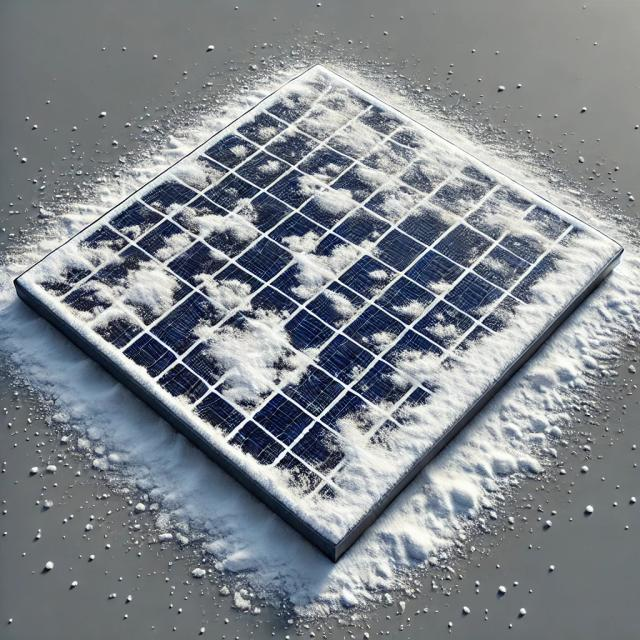Anomaly Solar Panel: (14, 0, 621, 566)
Snow: (14, 0, 624, 567), (46, 15, 553, 522), (147, 243, 327, 426), (263, 216, 385, 335), (360, 256, 403, 301), (391, 292, 429, 322), (423, 277, 458, 294)
